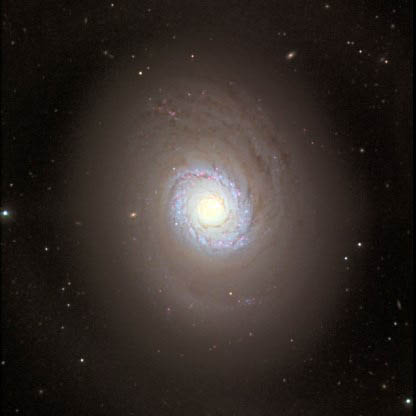Messier 94: (32, 20, 390, 390)
